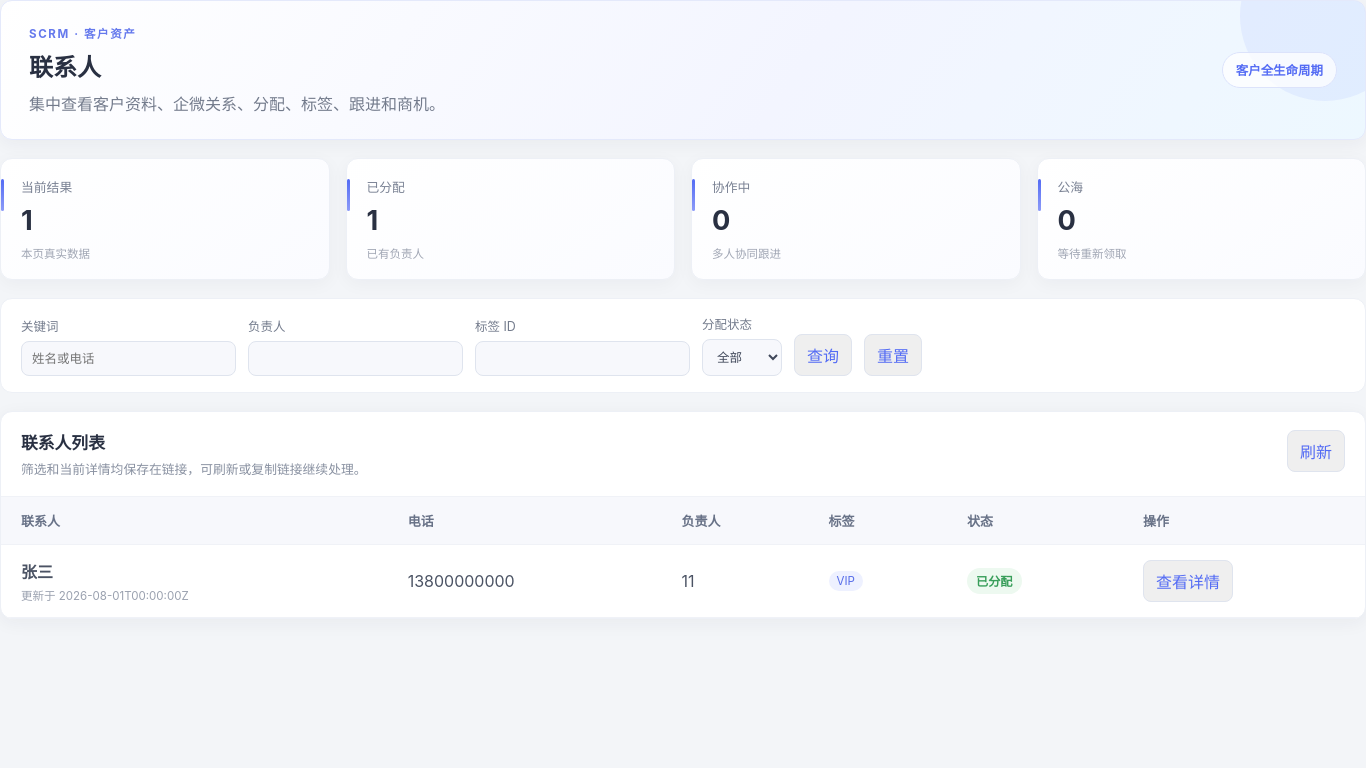
ContactPage › retries a failed detail request without closing the drawer
Step 1. Click the button with aria-label "查看张三" → coordinates (1188, 581), box [1143, 560, 1233, 602]
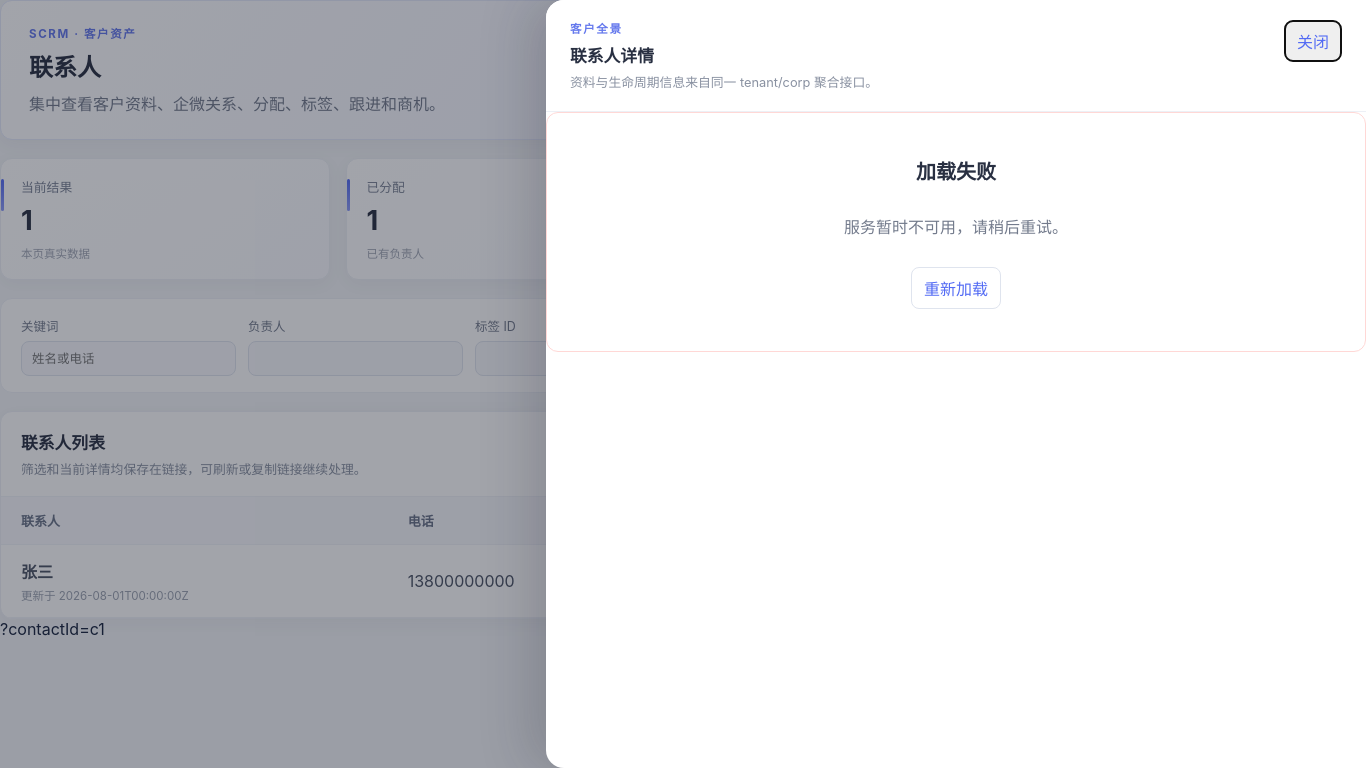
Step 2. Click the button "重新加载" → coordinates (956, 288), box [911, 266, 1001, 308]
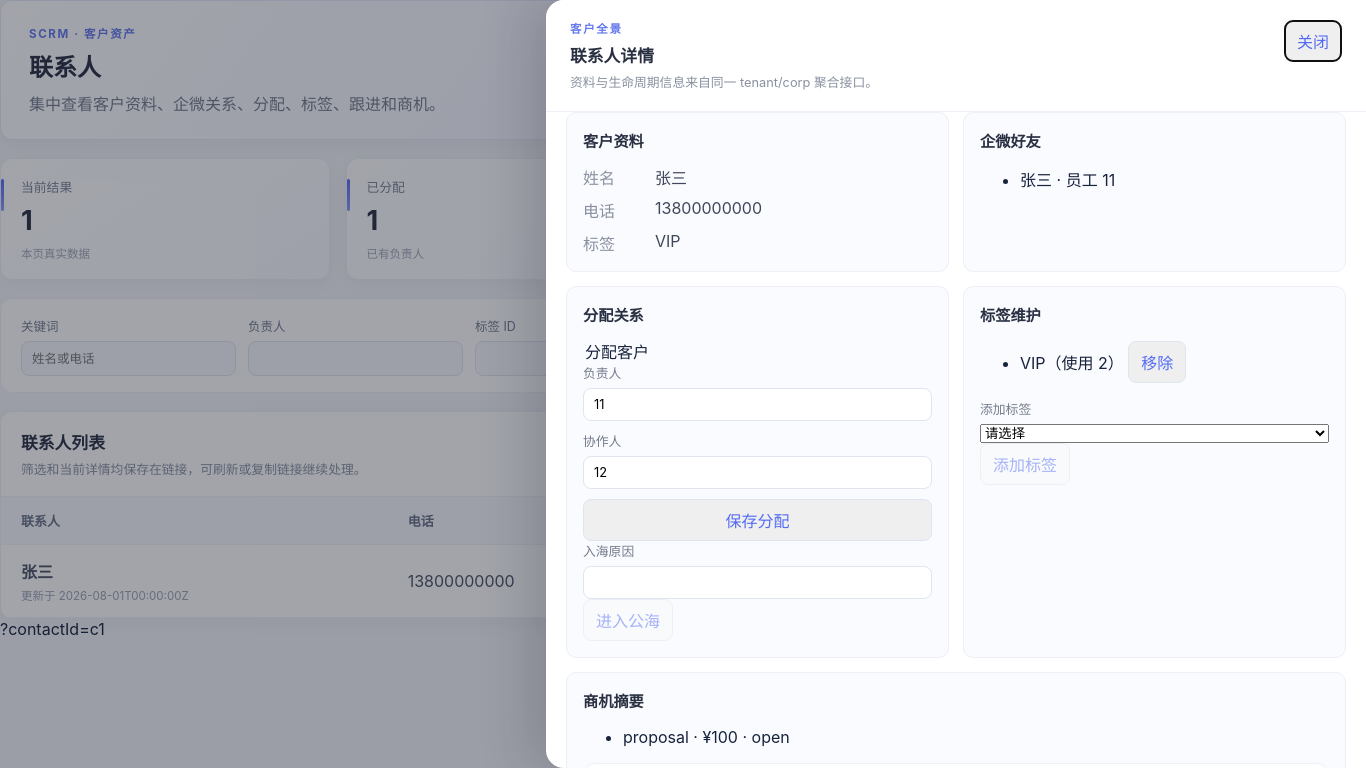
Now the dialog "联系人详情" is shown
Now the heading "客户资料" is shown, box [583, 132, 644, 151]
